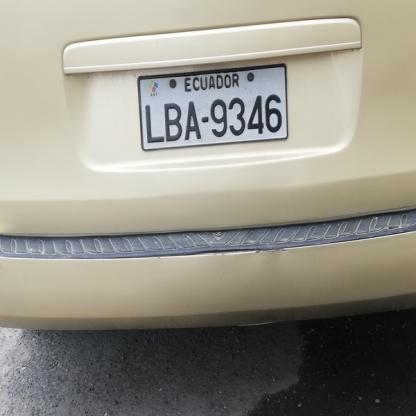Placa: (131, 70, 300, 154)
